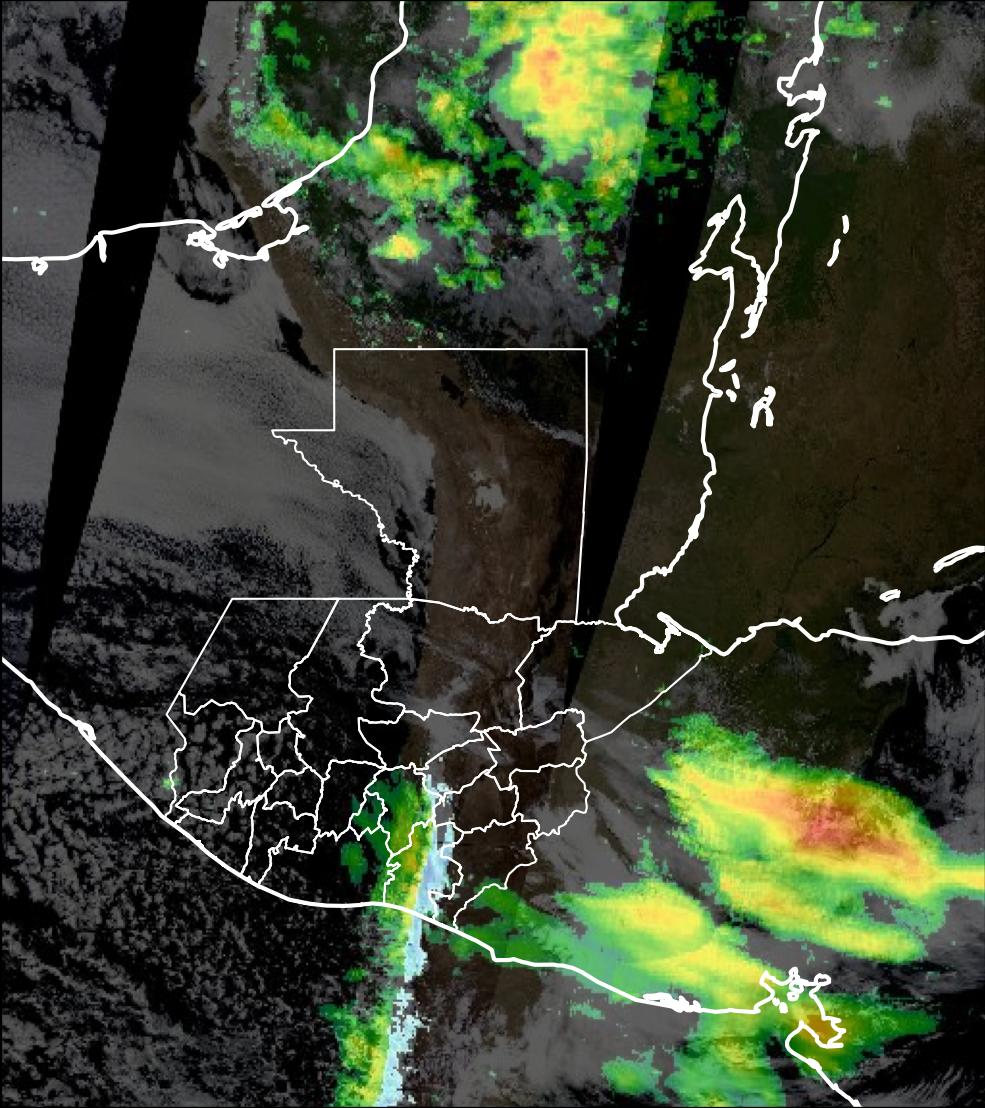precipitacion: (697, 741, 985, 906), (502, 29, 595, 149)
